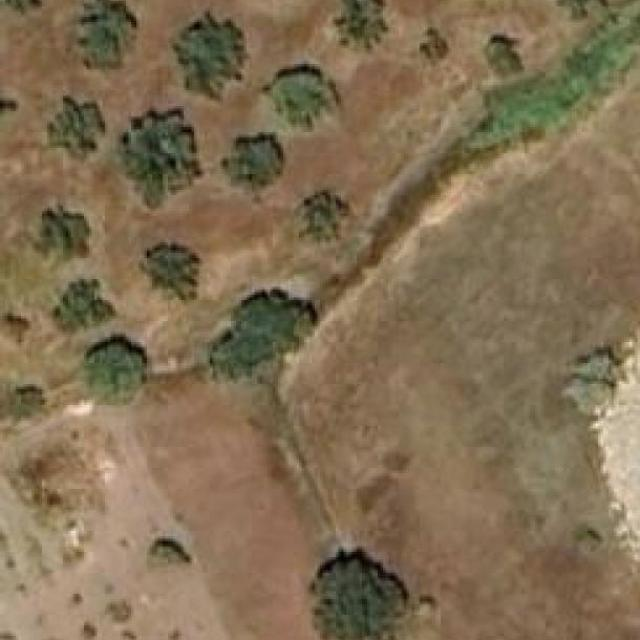Tree: (204, 290, 318, 384), (306, 550, 409, 640), (120, 106, 204, 209), (173, 12, 250, 98), (66, 0, 139, 74), (271, 64, 347, 132), (34, 206, 98, 272), (224, 136, 286, 203), (140, 240, 202, 306), (87, 336, 152, 398), (50, 274, 116, 335), (47, 96, 105, 162), (332, 0, 388, 50), (299, 190, 351, 242), (409, 22, 451, 67), (482, 36, 524, 80), (147, 539, 192, 576), (559, 0, 601, 22), (0, 0, 44, 14)
